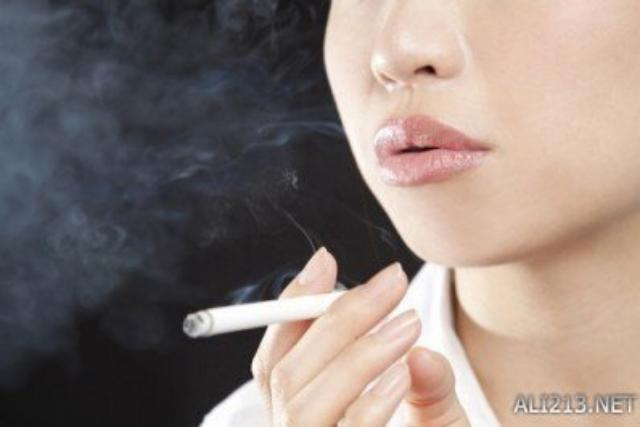Cigarette: (182, 295, 321, 346)
